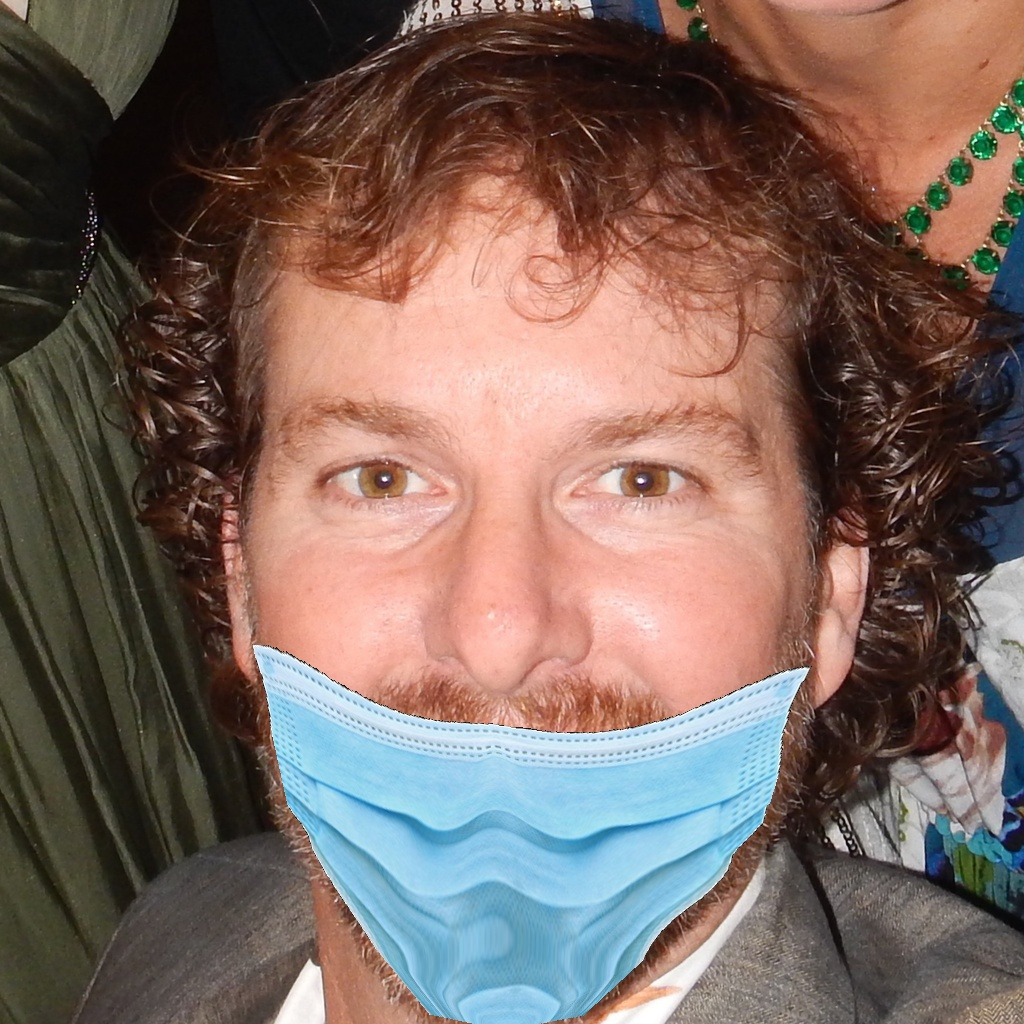mascarilla_mal_puesta: (184, 403, 852, 1024)
